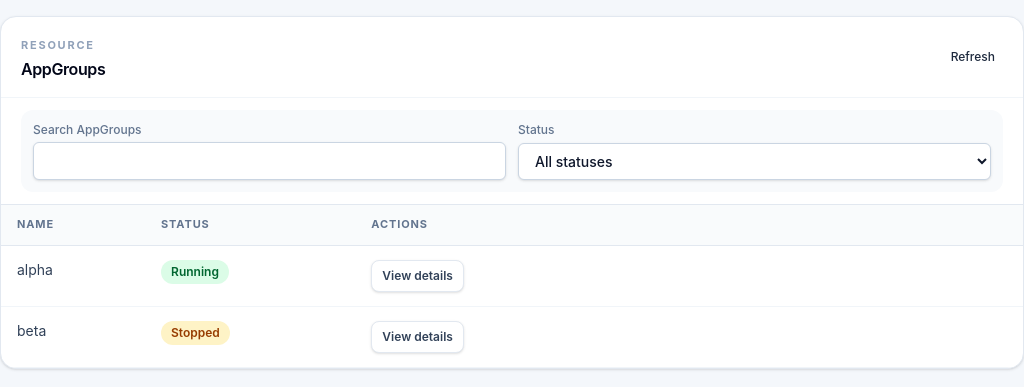
Test case: resource list usability › filters resources by search text and status
The width and height of the screenshot is (1024, 387).
Expected: the text "alpha" is shown, [17,261,53,278]
Expected: the text "beta" is shown, [17,322,46,339]
In the field labelled "Search AppGroups": (270, 161) [33,142,506,180], type "beta"
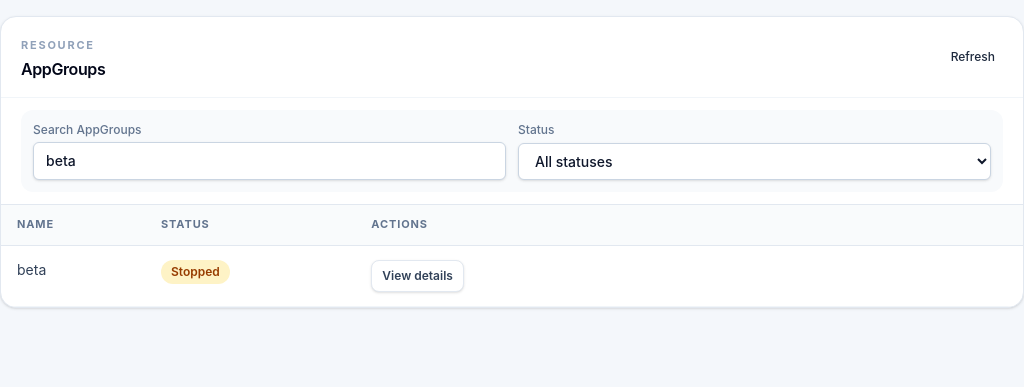
Expected: the text "beta" is shown, [17,261,46,278]
Now the text "alpha" is gone
Clear the field labelled "Search AppGroups": (270, 161) [33,142,506,180]
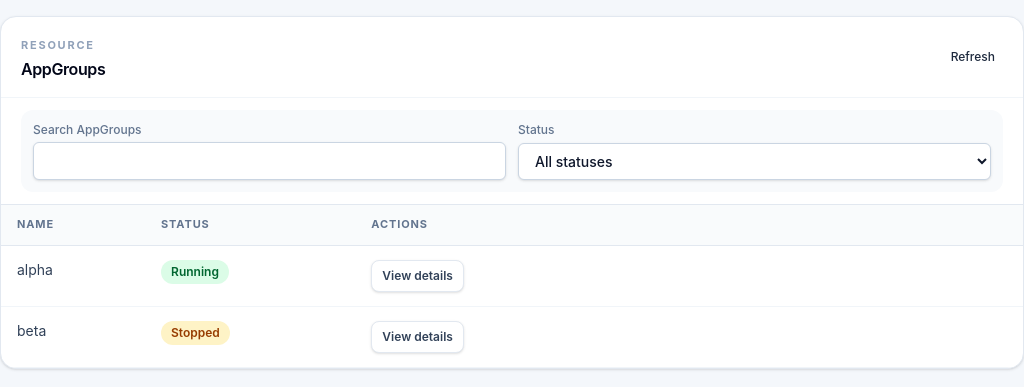
Select "Running" in the dropdown named "Filter AppGroups by status": (754, 161) [518,142,991,180]
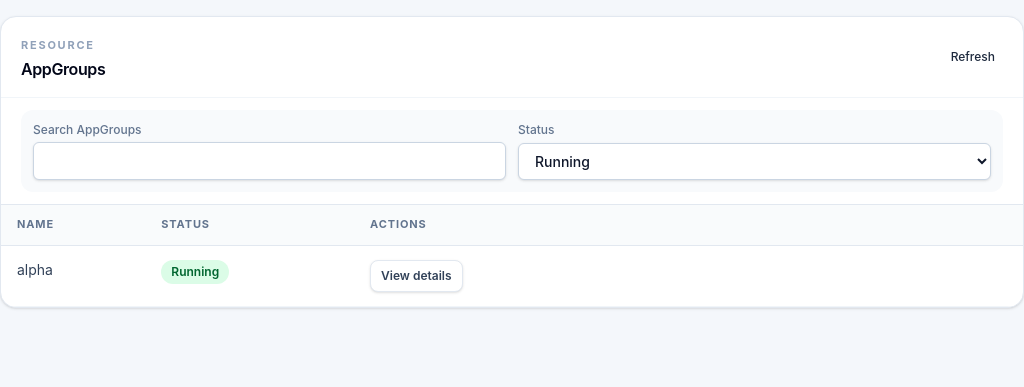
Now the text "alpha" is shown, box [17,261,53,278]
Now the text "beta" is gone
